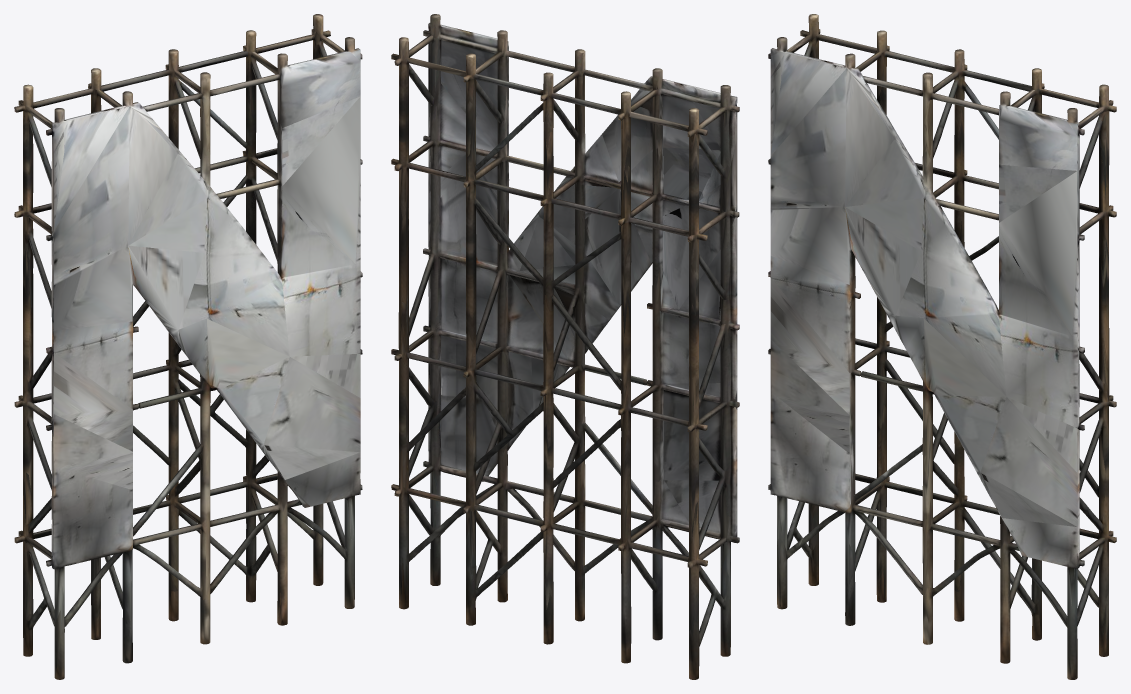
Rendered from sign-letter-N.glb.
3 views of the same model, side by side, from view 1: azimuth 30°, elevation 25°; view 2: azimuth 150°, elevation 25°; view 3: azimuth 330°, elevation 25° (orthographic).
Parts seen in each view (by area): view 1: model; view 2: model; view 3: model.
Boxes of the visible parts, left/top/right/bottom form: model: left=14, top=14, right=362, bottom=679; model: left=391, top=14, right=739, bottom=679; model: left=768, top=14, right=1116, bottom=679.
Bounding box in the file's own units: 7.77 × 13.4 × 1.75.
Materials: 1 (1 with a texture image).
